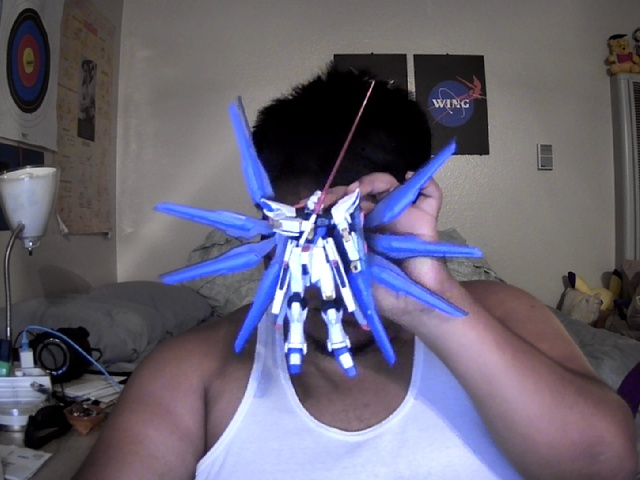Freedom-Destiny: (154, 78, 484, 378)
